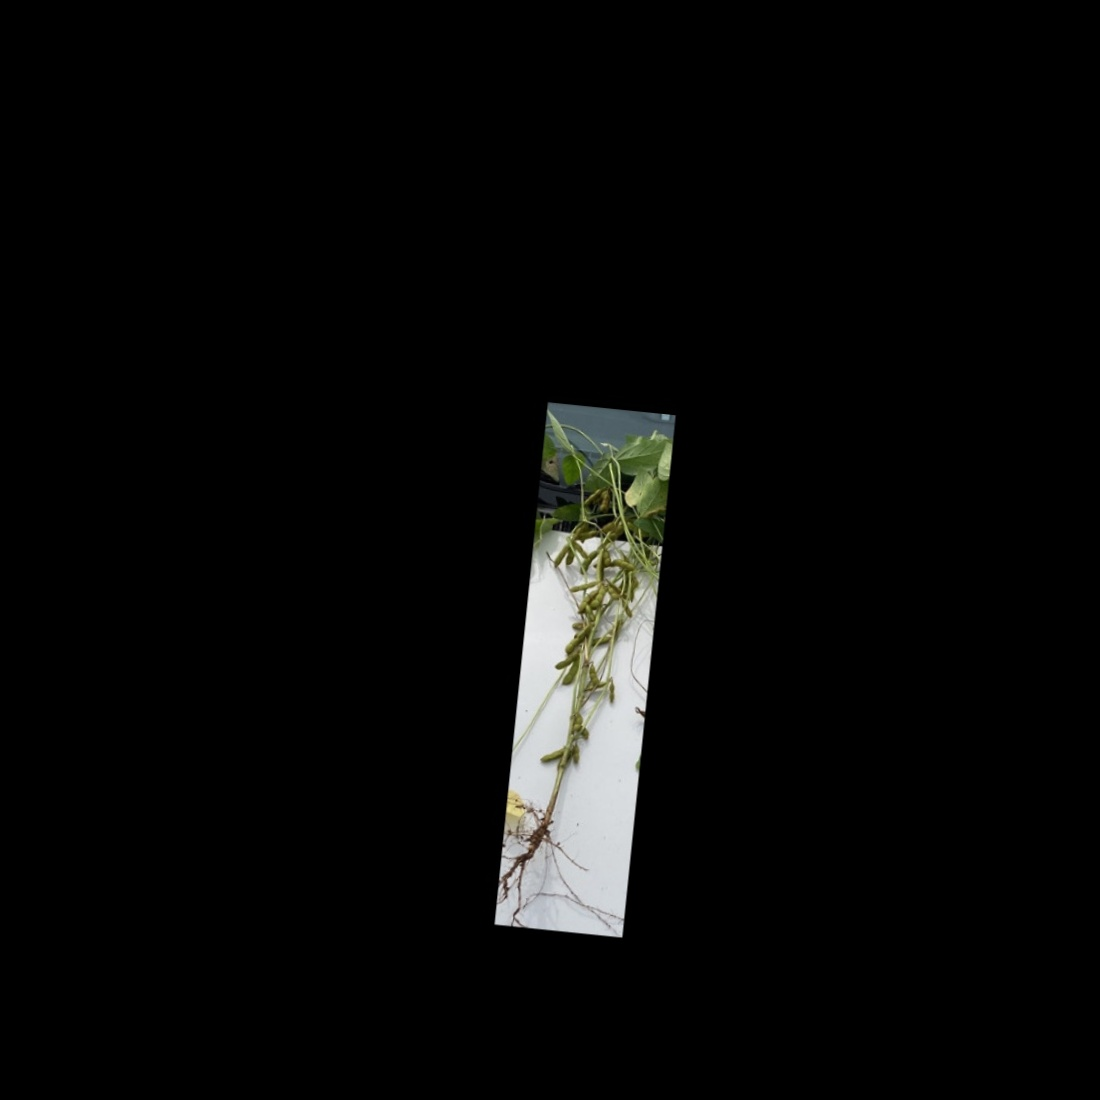pod: (576, 547, 600, 578), (586, 583, 610, 613), (536, 743, 566, 767), (550, 650, 578, 671), (586, 662, 604, 693), (602, 678, 620, 707), (610, 557, 639, 574)
soy: (505, 435, 660, 900)
